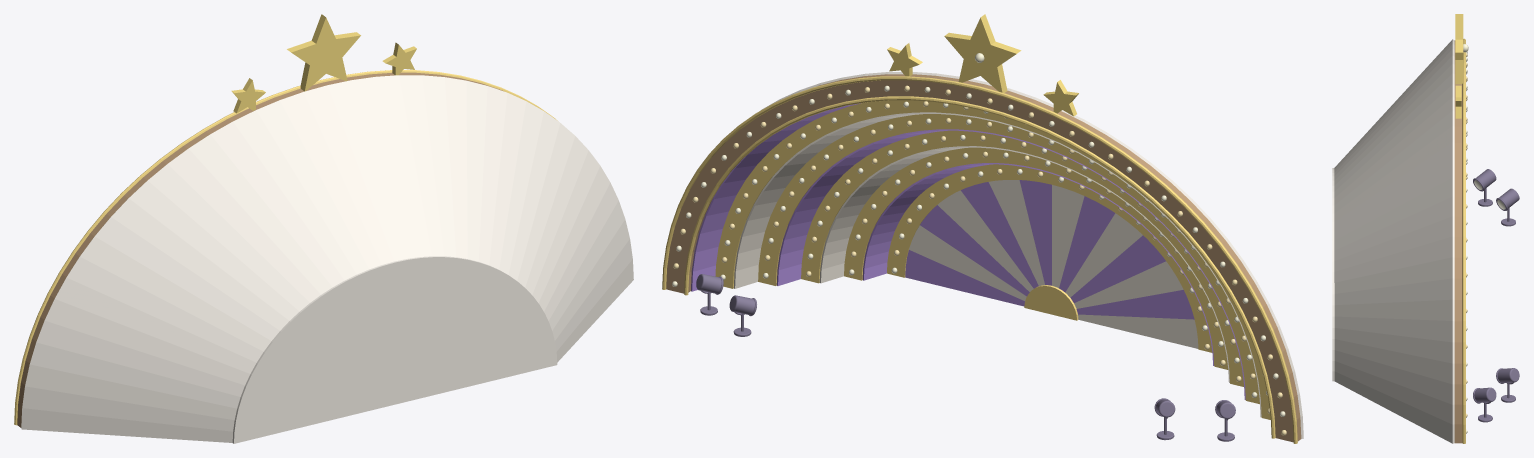
The model's file is PumpBandshell.glb.
3 renders of one model, left to right at view 1: azimuth 30°, elevation 25°; view 2: azimuth 150°, elevation 25°; view 3: azimuth 270°, elevation 25°, orthographic. The views are drawn at different scales.
Visible parts, largest first — view 1: Facade, Crest, Frame, Steps; view 2: Steps, ShellA, ShellB, Frame, Crest, BulbsA, BulbsB, Cans, Facade; view 3: Facade, Frame, Cans, Steps, Crest.
Part boxes in pixels (bbox=[...]): Facade: bbox=[21, 75, 633, 443]; Crest: bbox=[231, 14, 416, 113]; Frame: bbox=[17, 72, 503, 427]; Steps: bbox=[14, 70, 557, 425]; Steps: bbox=[662, 76, 1297, 443]; ShellA: bbox=[691, 103, 1245, 399]; ShellB: bbox=[733, 112, 1261, 417]; Frame: bbox=[666, 74, 1301, 442]; Crest: bbox=[887, 14, 1078, 116]; BulbsA: bbox=[672, 53, 1285, 416]; BulbsB: bbox=[673, 85, 1286, 435]; Cans: bbox=[696, 274, 1235, 441]; Facade: bbox=[760, 72, 1303, 438]; Facade: bbox=[1332, 39, 1454, 443]; Frame: bbox=[1454, 40, 1462, 443]; Cans: bbox=[1473, 169, 1519, 422]; Steps: bbox=[1462, 38, 1465, 443]; Crest: bbox=[1455, 14, 1463, 118].
Bounding box in the file's own units: 108 × 56.66 × 32.32.
